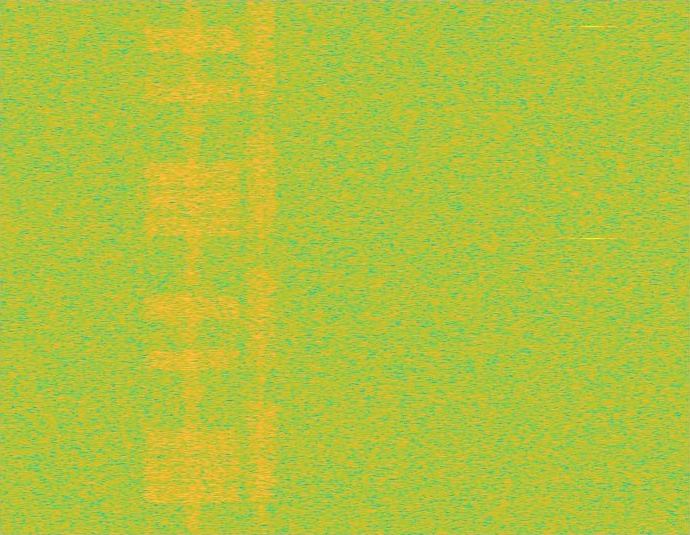5G: (244, 0, 279, 534)
DSSS: (181, 0, 204, 534), (257, 0, 265, 534)
LTE: (141, 0, 244, 534)
Radar: (585, 0, 599, 534)
